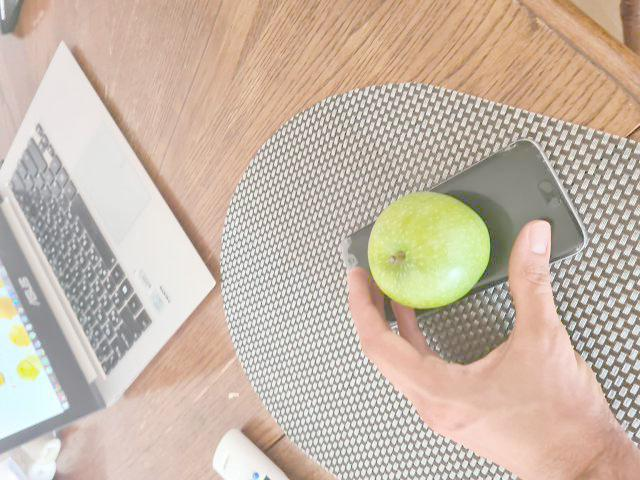apple: (372, 190, 486, 301)
